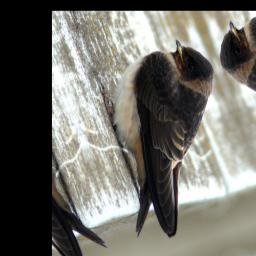Swallow: (72, 29, 256, 249)
